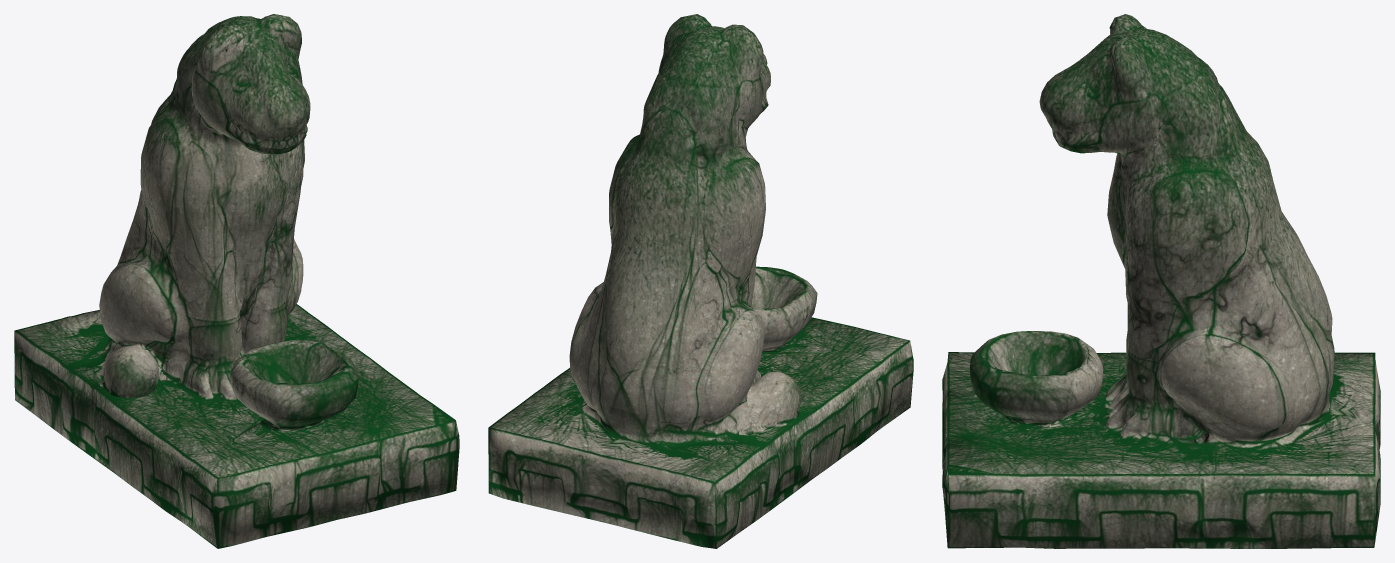
File: jaguar.gltf
3 renders of one model, left to right at view 1: azimuth 30°, elevation 25°; view 2: azimuth 150°, elevation 25°; view 3: azimuth 270°, elevation 25°, orthographic. The views are drawn at different scales.
Parts seen in each view (by area): view 1: jaguar; view 2: jaguar; view 3: jaguar.
Boxes of the visible parts, <box> form: jaguar: <box>14,14,459,548</box>; jaguar: <box>488,14,913,548</box>; jaguar: <box>942,14,1380,548</box>.
Bounding box in the file's own units: 1.36 × 2.3 × 1.98.
Materials: 1 (1 with a texture image).
